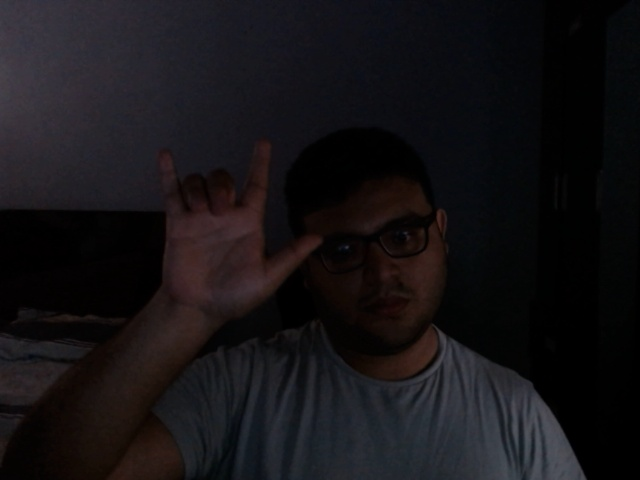I love you: (148, 138, 327, 334)
